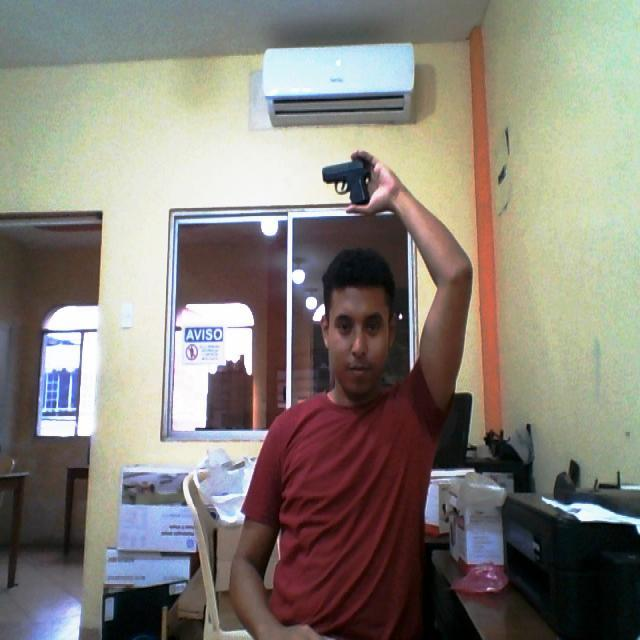Gun: (316, 151, 389, 208)
